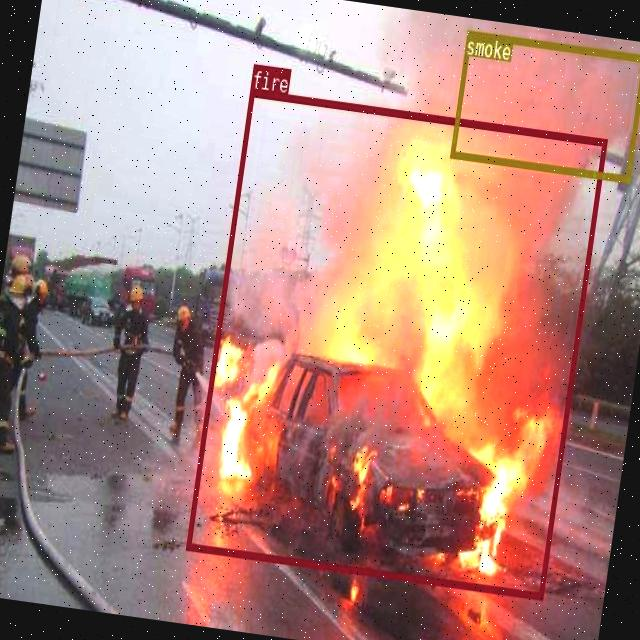fire: (185, 89, 606, 598)
smoke: (449, 29, 640, 181)
